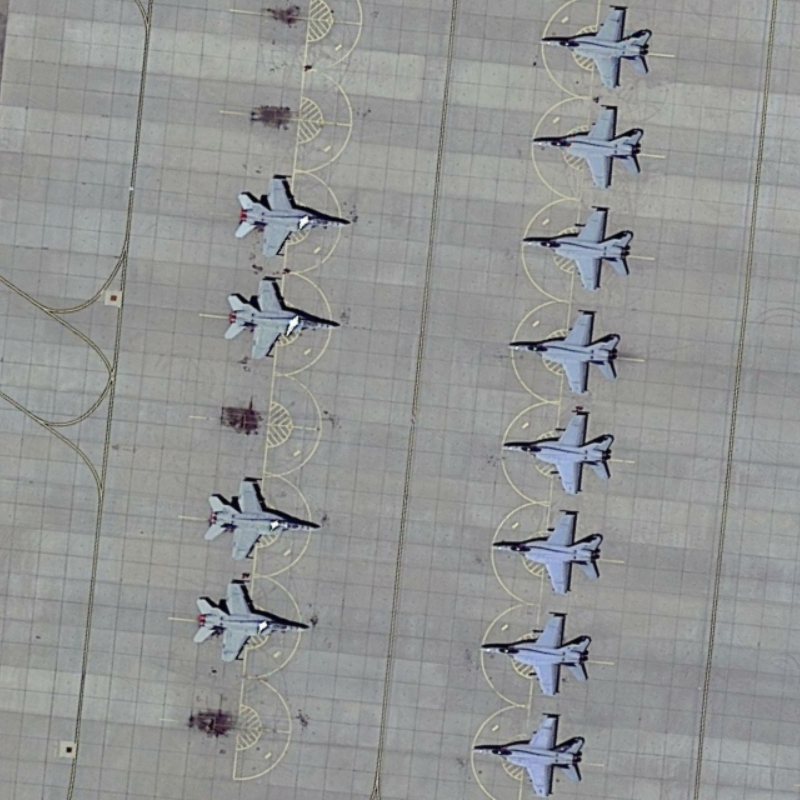A16: (532, 1, 664, 92), (472, 605, 597, 701), (461, 707, 590, 800), (483, 503, 608, 598), (502, 304, 625, 400), (197, 472, 323, 565), (230, 169, 354, 261), (219, 273, 343, 365), (499, 403, 615, 500), (188, 578, 312, 667), (517, 202, 637, 293), (526, 104, 647, 190)
